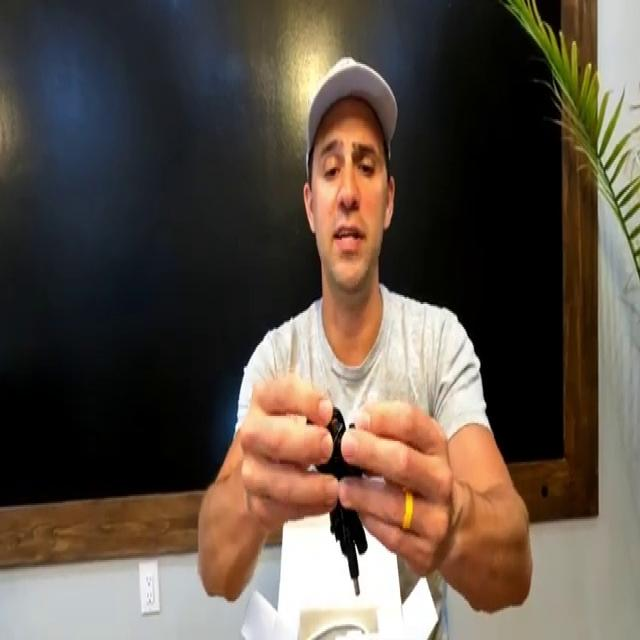adult: (198, 60, 532, 640)
